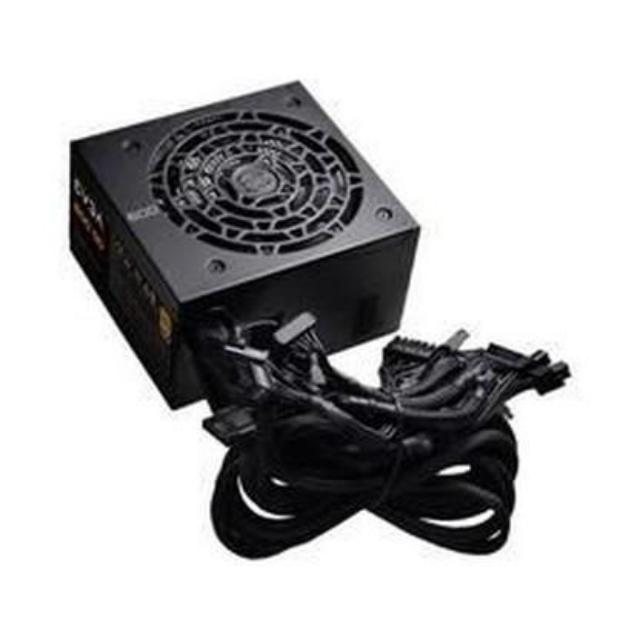PSU: (61, 82, 426, 390)
